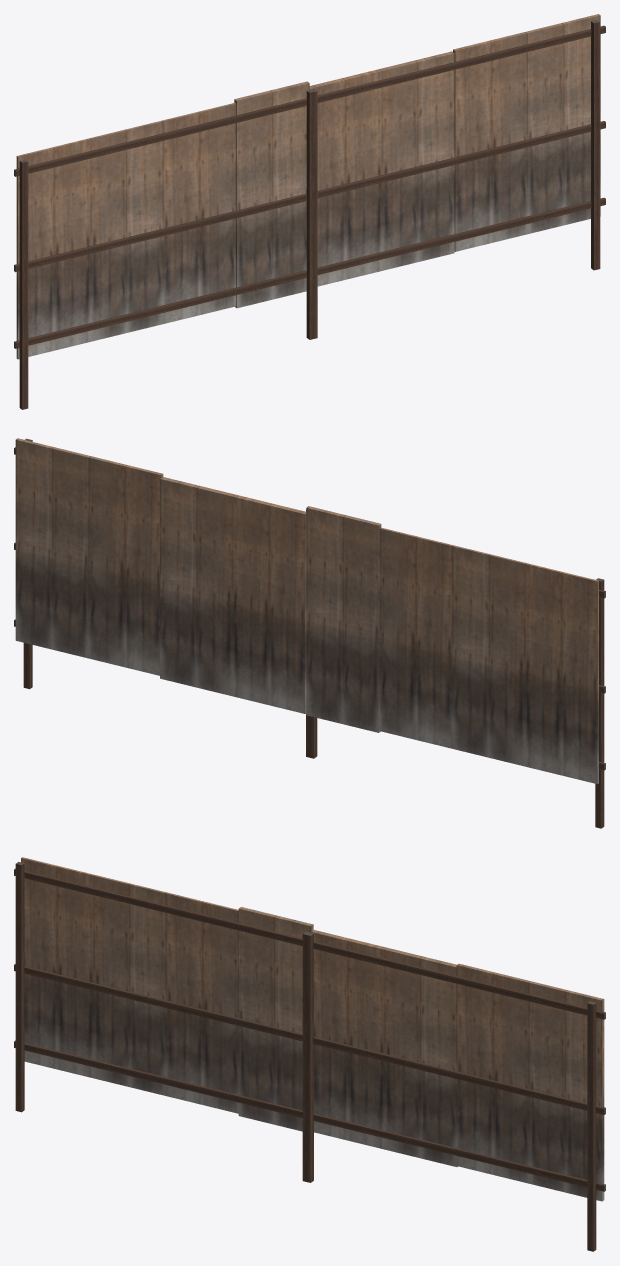
The model's file is fence01a_2t.fbx.
The picture shows the model from 3 angles, top to bottom: view 1: azimuth 30°, elevation 25°; view 2: azimuth 150°, elevation 25°; view 3: azimuth 330°, elevation 25°; orthographic projection.
Visible parts, largest first — view 1: fence01a_2t; view 2: fence01a_2t; view 3: fence01a_2t.
Boxes of the visible parts, box(x1,y1,x2,y2) form: fence01a_2t: box(14, 14, 605, 409); fence01a_2t: box(14, 438, 605, 828); fence01a_2t: box(14, 857, 605, 1251).
Size of the model in its own units: 445 by 182 by 9.91.
